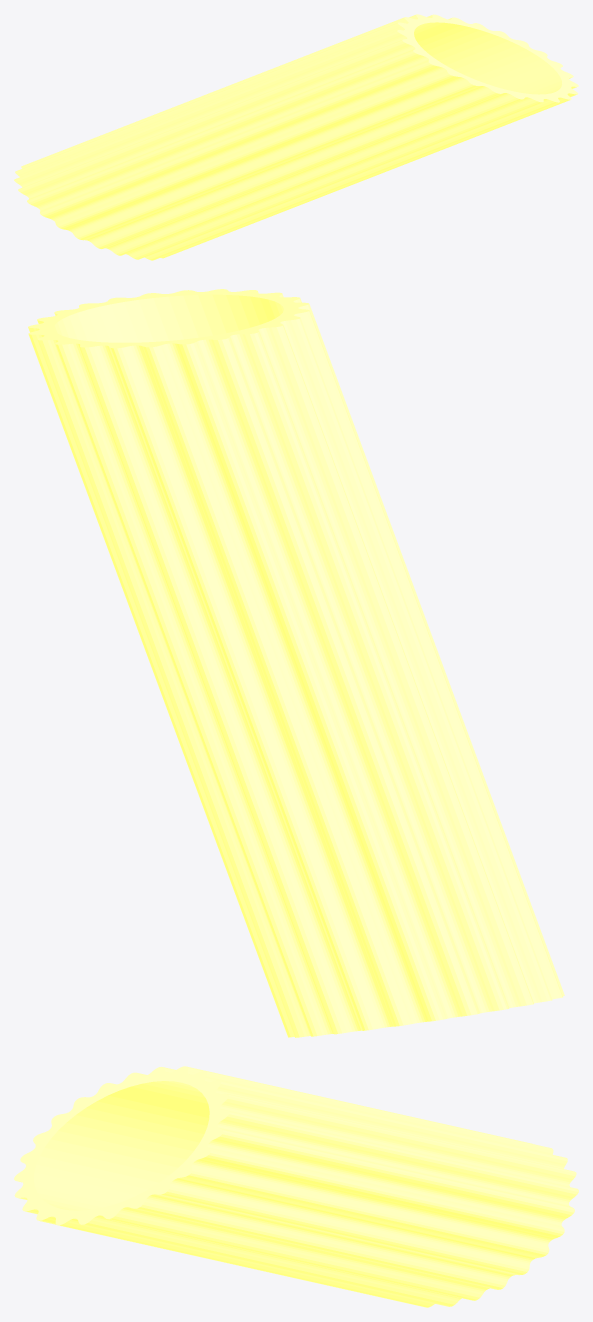
File: Penne.003.gltf
3 renders of one model, top to bottom at view 1: azimuth 30°, elevation 25°; view 2: azimuth 150°, elevation 25°; view 3: azimuth 270°, elevation 25°, orthographic. The views are drawn at different scales.
Visible parts, largest first — view 1: Penne.003; view 2: Penne.003; view 3: Penne.003.
Boxes of the visible parts, x1=… form: Penne.003: x1=14, y1=14, x2=578, y2=260; Penne.003: x1=28, y1=289, x2=564, y2=1037; Penne.003: x1=14, y1=1066, x2=578, y2=1307.
Size of the model in its own units: 2.86 by 1.7 by 2.63.
